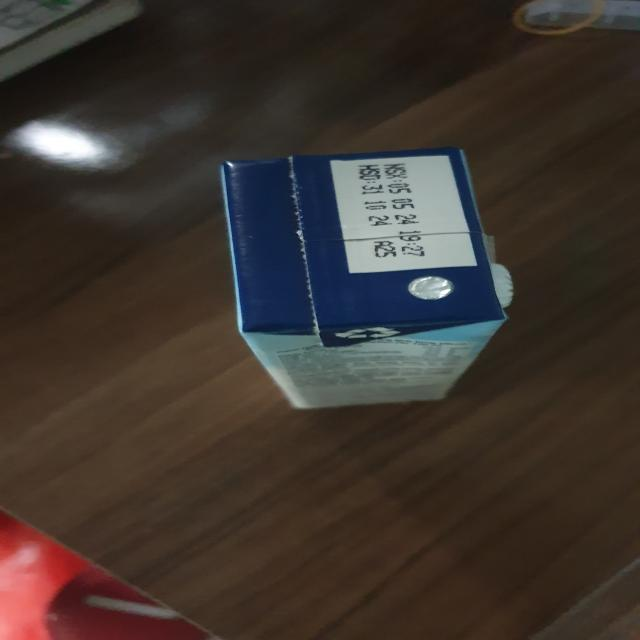TH: (227, 155, 512, 412)
